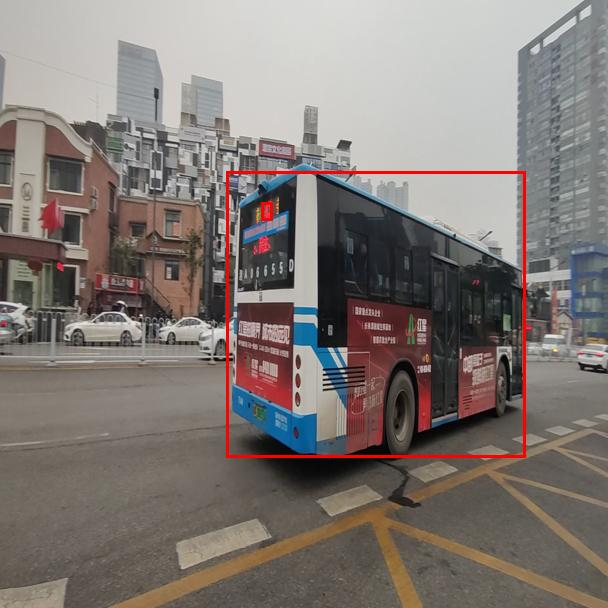bus: (226, 171, 525, 457)
screen: (261, 202, 272, 220)
